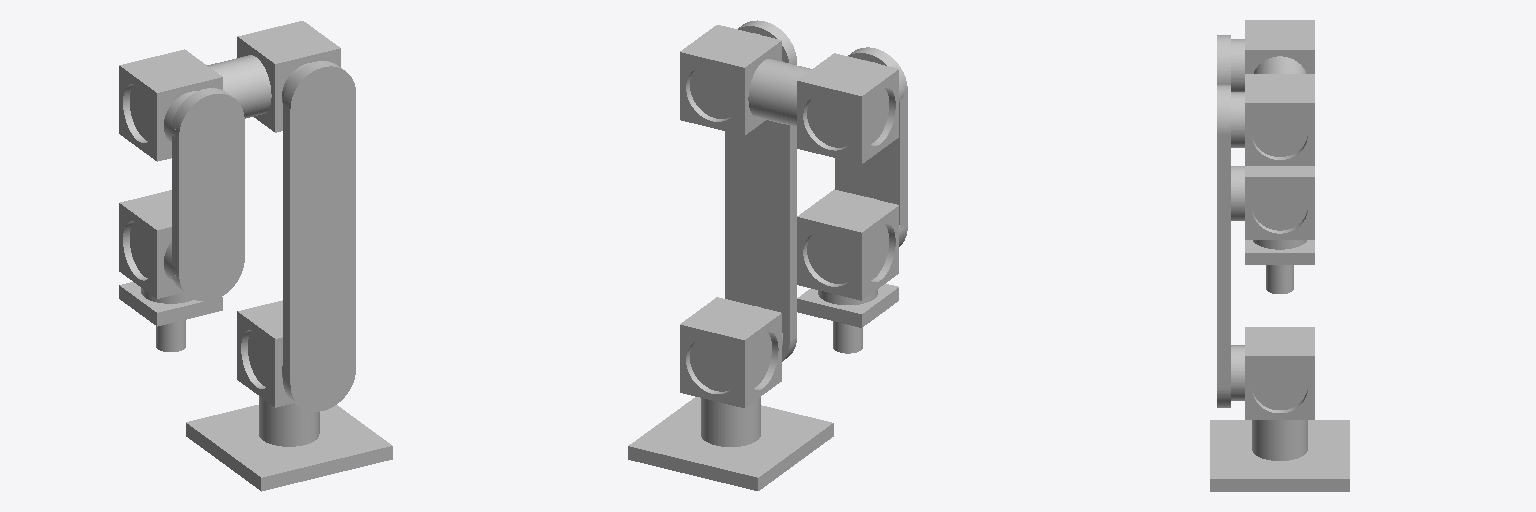
robot.urdf — visual:
<?xml version="1.0"?>
<robot name="visual">

  <link name="base_link">
    <visual>
      <geometry>
        <mesh filename="package://axis6/meshes/base_link.dae"/>
      </geometry>
    </visual>
  </link>

  <link name="box1">
    <visual>
      <origin xyz="0 0 -0.05"/>
      <geometry>
        <mesh filename="package://axis6/meshes/box1.dae"/>
      </geometry>
    </visual>
  </link>

  <joint name="ch0" type="revolute">
    <parent link="base_link"/>
    <child link="box1"/>
    <origin rpy="0 0 0" xyz="0 0 0.05"/>
    <axis rpy="0 0 0" xyz="0 0 1"/>
    <limit effort="1000.0" lower="-1.26" upper="1.26" velocity="0.5"/>
  </joint>

  <link name="axis1">
    <visual>
      <origin xyz="0 0 -0.05"/>
      <geometry>
        <mesh filename="package://axis6/meshes/axis1.dae"/>
      </geometry>
    </visual>
  </link>

  <joint name="box1_to_axis1" type="fixed">
    <parent link="box1"/>
    <child link="axis1"/>
  </joint>

  <link name="frame2-1">
    <visual>
      <origin xyz="0 0.04 -0.07"/>
      <geometry>
        <mesh filename="package://axis6/meshes/frame2-1.dae"/>
      </geometry>
    </visual>
  </link>

  <joint name="ch1" type="revolute">
    <parent link="axis1"/>
    <child link="frame2-1"/>
    <origin rpy="0 0 0" xyz="0 -0.04 0.02"/>
    <axis xyz="0 1 0"/>
    <limit effort="1000.0" lower="-1.26" upper="1.26" velocity="0.5"/>
  </joint>

  <link name="axis2">
    <visual>
      <origin xyz="0 0.04 -0.07"/>
      <geometry>
        <mesh filename="package://axis6/meshes/axis2.dae"/>
      </geometry>
    </visual>
  </link>

  <joint name="frame2-1_to_axis2" type="fixed">
    <parent link="frame2-1"/>
    <child link="axis2"/>
  </joint>

  <link name="box2">
    <visual>
      <origin xyz="0 0.04 -0.27"/>
      <geometry>
        <mesh filename="package://axis6/meshes/box2.dae"/>
      </geometry>
    </visual>
  </link>

  <joint name="ch2" type="revolute">
    <parent link="axis2"/>
    <child link="box2"/>
    <origin xyz="0 0 0.2"/>
    <axis rpy="0 0 0" xyz="0 1 0"/>
    <limit effort="1000.0" lower="-1.26" upper="1.26" velocity="0.5"/>
  </joint>

  <link name="cylinder1">
    <visual>
      <origin xyz="0 0.04 -0.27"/>
      <geometry>
        <mesh filename="package://axis6/meshes/cylinder1.dae"/>
      </geometry>
    </visual>
  </link>

  <joint name="box2_to_cylinder1" type="fixed">
    <parent link="box2"/>
    <child link="cylinder1"/>
  </joint>

  <link name="box3">
    <visual>
      <origin xyz="0 0.04 -0.27"/>
      <geometry>
        <mesh filename="package://axis6/meshes/box3.dae"/>
      </geometry>
    </visual>
  </link>

  <joint name="cylinder1_to_box3" type="fixed">
    <parent link="cylinder1"/>
    <child link="box3"/>
  </joint>

  <link name="axis3">
    <visual>
      <origin xyz="0 0.04 -0.27"/>
      <geometry>
        <mesh filename="package://axis6/meshes/axis3.dae"/>
      </geometry>
    </visual>
  </link>

  <joint name="box3_to_axis3" type="fixed">
    <parent link="box3"/>
    <child link="axis3"/>
  </joint>

  <link name="frame1-1">
    <visual>
      <origin xyz="0.09518 0.04 -0.27"/>
      <geometry>
        <mesh filename="package://axis6/meshes/frame1-1.dae"/>
      </geometry>
    </visual>
  </link>

  <joint name="ch3" type="revolute">
    <parent link="axis3"/>
    <child link="frame1-1"/>
    <origin rpy="0 0 0" xyz="-0.09 0 0"/>
    <axis xyz="0 1 0"/>
    <limit effort="1000.0" lower="-1.26" upper="1.26" velocity="0.5"/>
  </joint>

  <link name="axis4">
    <visual>
      <origin xyz="0.09 0.04 -0.27"/>
      <geometry>
        <mesh filename="package://axis6/meshes/axis4.dae"/>
      </geometry>
    </visual>
  </link>

  <joint name="frame1-1_to_axis4" type="fixed">
    <parent link="frame1-1"/>
    <child link="axis4"/>
  </joint>

  <link name="box4">
    <visual>
      <origin xyz="0.09 0.04 -0.27"/>
      <geometry>
        <mesh filename="package://axis6/meshes/box4.dae"/>
      </geometry>
    </visual>
  </link>

  <joint name="axis4_to_box4" type="fixed">
    <parent link="axis4"/>
    <child link="box4"/>
  </joint>

  <link name="axis5">
    <visual>
      <origin xyz="0.09 0.04 -0.27"/>
      <geometry>
        <mesh filename="package://axis6/meshes/axis5.dae"/>
      </geometry>
    </visual>
  </link>

  <joint name="box4_to_axis5" type="fixed">
    <parent link="box4"/>
    <child link="axis5"/>
  </joint>

  <link name="end_effector">
    <visual>
      <origin xyz="0.09 0 -0.11"/>
      <geometry>
        <mesh filename="package://axis6/meshes/end_effector.dae"/>
      </geometry>
    </visual>
  </link>

  <joint name="ch4" type="revolute">
    <parent link="axis5"/>
    <child link="end_effector"/>
    <origin xyz="0 0.04 -0.16"/>
    <axis xyz="0 0 1"/>
    <limit effort="1000.0" lower="-1.26" upper="1.26" velocity="0.5"/>
  </joint>

</robot>

--- What the picture shows (computed from the rendered views, not written in the file) ---
Views: 3 orthographic renders of the robot side by side, from view 1: azimuth 30°, elevation 25°; view 2: azimuth 150°, elevation 25°; view 3: azimuth 270°, elevation 25°.
Model visual with 14 links and 13 joints (5 revolute, 8 fixed), rooted at base_link, posed every joint at zero.
Links seen in each view (by area): view 1: frame2-1, frame1-1, base_link, box3, box4, box2, box1, end_effector, cylinder1; view 2: frame2-1, base_link, box1, box3, box4, box2, frame1-1, end_effector, cylinder1; view 3: base_link, box1, box2, box4, frame2-1, box3, end_effector, axis1, axis2, axis4, axis3, frame1-1 (+1 smaller).
Boxes of the visible links, <box> form: frame2-1: <box>283,61,355,411</box>; frame1-1: <box>172,88,244,301</box>; base_link: <box>186,396,392,491</box>; box3: <box>119,49,222,161</box>; box4: <box>119,190,183,298</box>; box2: <box>237,21,340,132</box>; box1: <box>237,300,294,407</box>; end_effector: <box>119,282,222,351</box>; cylinder1: <box>207,55,271,118</box>; frame2-1: <box>725,20,796,361</box>; base_link: <box>628,397,833,490</box>; box1: <box>680,297,781,407</box>; box3: <box>797,53,898,163</box>; box4: <box>797,189,898,300</box>; box2: <box>680,25,781,135</box>; frame1-1: <box>835,47,907,246</box>; end_effector: <box>797,284,898,353</box>; cylinder1: <box>748,59,811,126</box>; base_link: <box>1210,420,1349,491</box>; box1: <box>1245,327,1314,419</box>; box2: <box>1245,74,1314,165</box>; box4: <box>1245,166,1314,239</box>; frame2-1: <box>1217,85,1230,407</box>; box3: <box>1245,20,1314,73</box>; end_effector: <box>1245,240,1314,293</box>; axis1: <box>1231,345,1244,400</box>; axis2: <box>1231,92,1244,147</box>; axis4: <box>1231,166,1244,220</box>; axis3: <box>1231,39,1244,91</box>; frame1-1: <box>1217,35,1230,84</box>.
Bounding box of the posed robot: 0.165 × 0.1 × 0.295 m (x, y, z).
Meshes: 14 distinct files referenced, 14 mesh visuals loaded (14 Collada DAE).